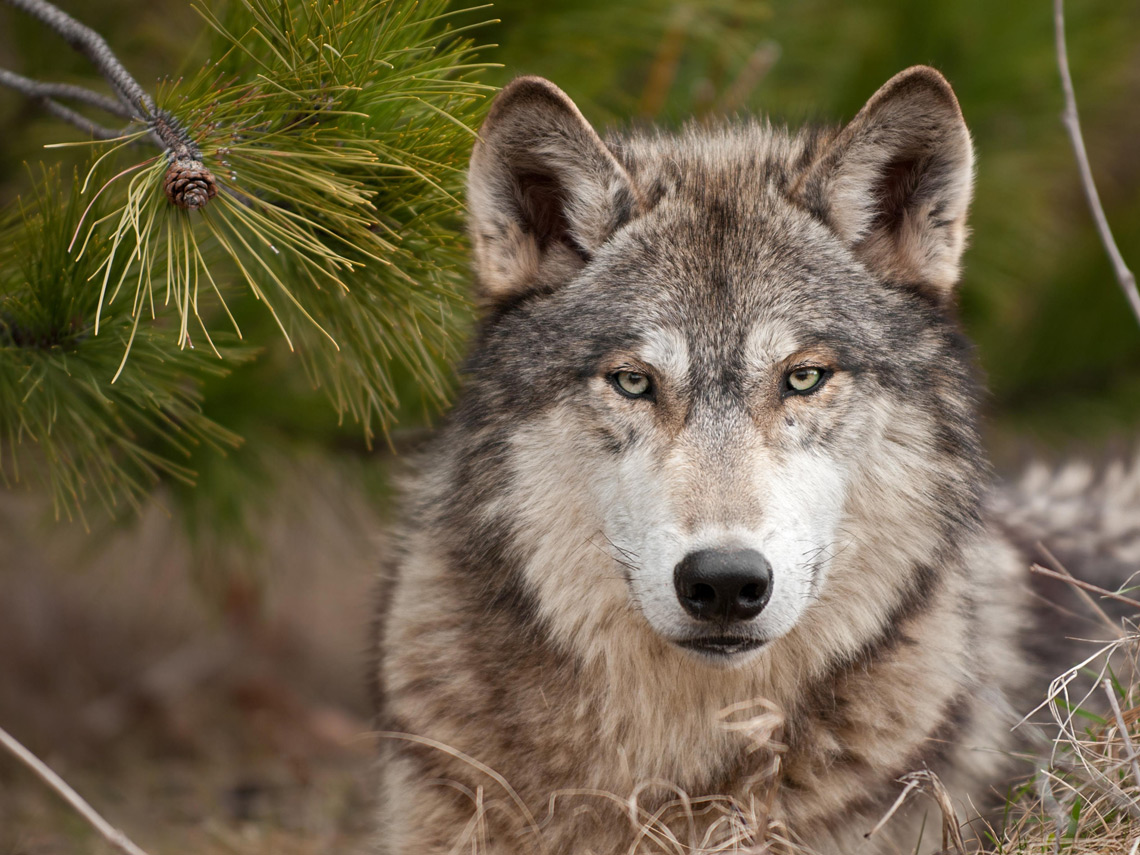Lobo: (413, 64, 1031, 794)
